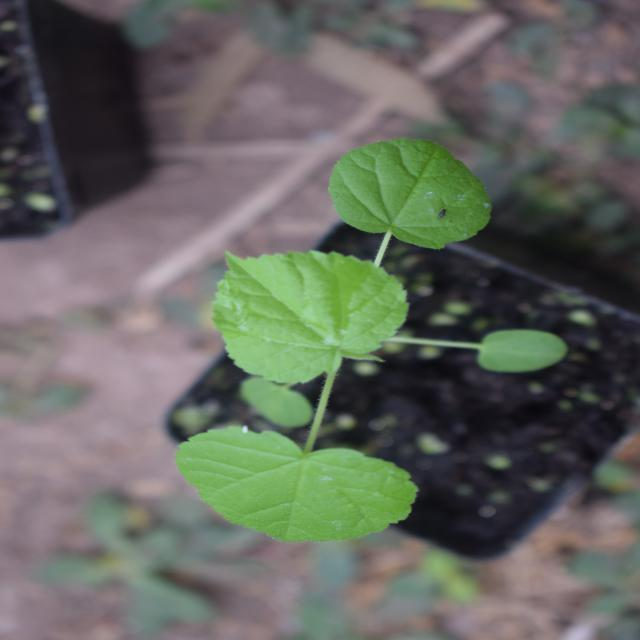abutilon theophrasti: (85, 146, 491, 515)
